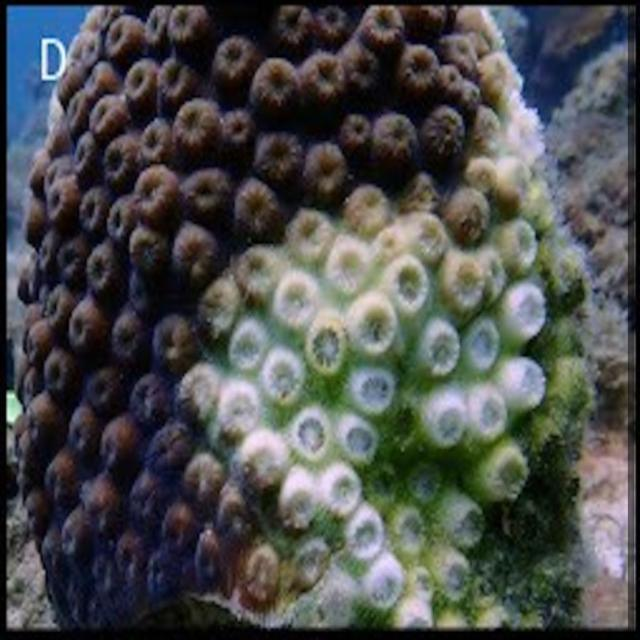Coral: (15, 6, 603, 630)
